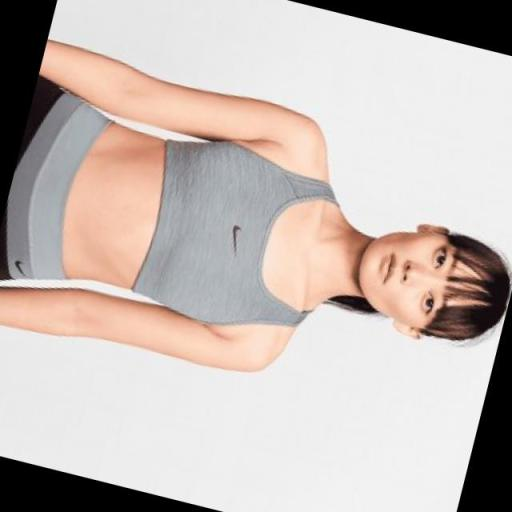Nike: (220, 218, 246, 257)
